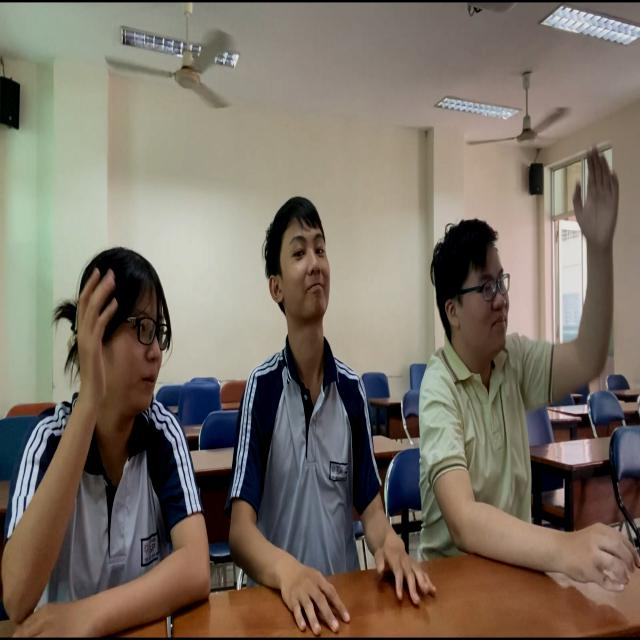raise_hand: (417, 98, 640, 640), (4, 231, 222, 640)
